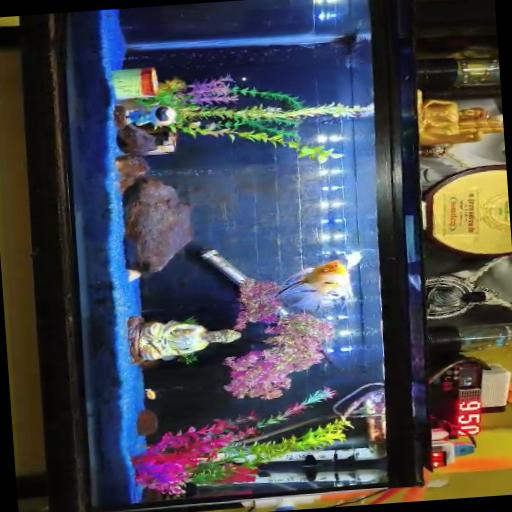Fish: (277, 260, 352, 311), (144, 389, 155, 399)
